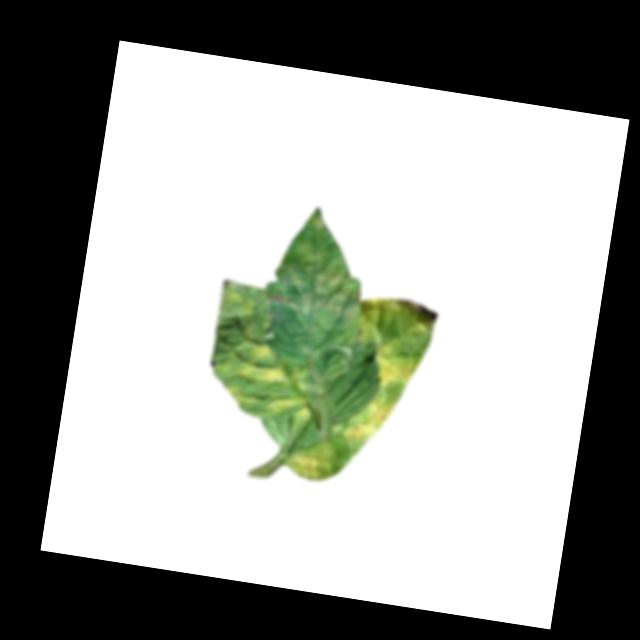Leaf_Mold: (260, 202, 368, 323), (222, 340, 307, 420), (349, 291, 440, 347), (345, 387, 399, 448), (365, 338, 423, 390), (287, 433, 338, 485)
